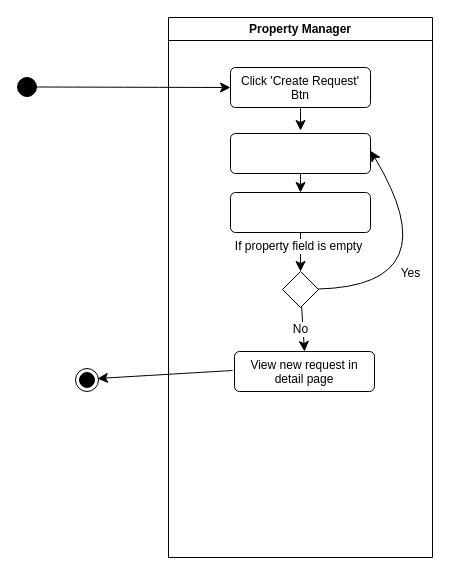
Image size: 450x575. Some labels were removed from this diagram. Each missing label, with the centre of its shape:
Enter Property Into Field: pixel 300 153
Submit Form: pixel 300 212
